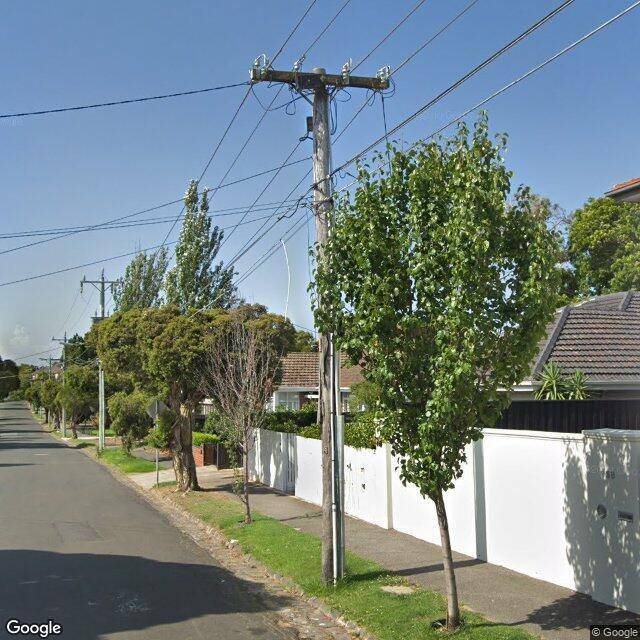HV-transmission: (79, 267, 121, 294), (52, 331, 73, 341)
crossarm: (248, 48, 392, 96), (80, 280, 122, 284), (52, 338, 73, 342), (40, 358, 61, 361)
timber-pole: (312, 67, 343, 580), (98, 269, 106, 451), (61, 330, 67, 438), (49, 354, 52, 366)
